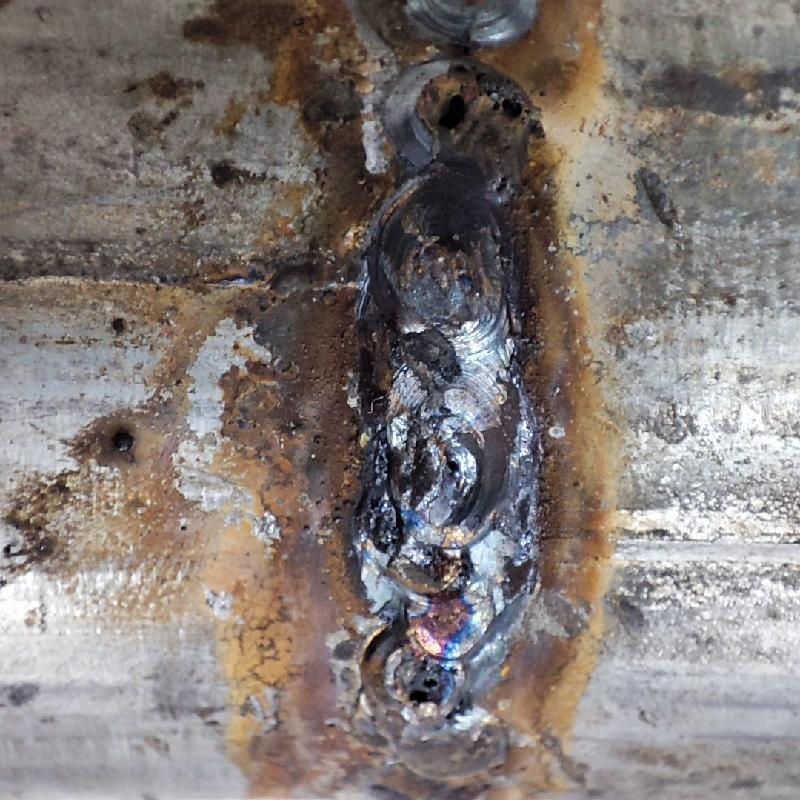Surface_pores: (421, 76, 527, 145), (388, 658, 454, 715)
